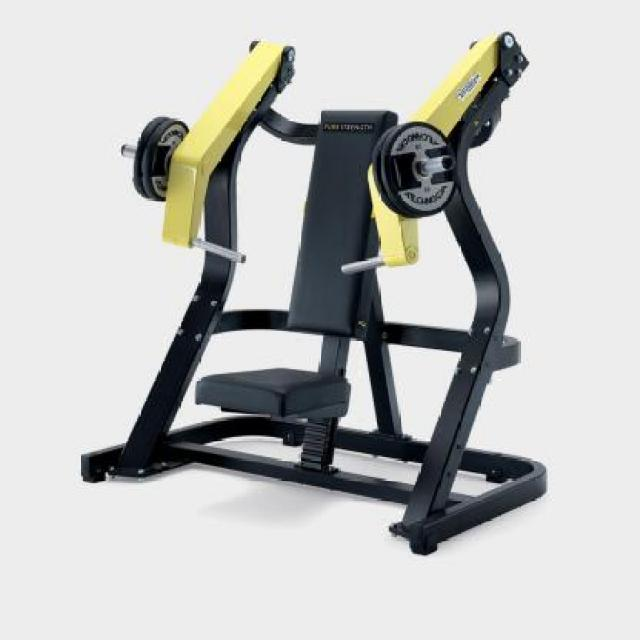Chest Press machine: (77, 28, 568, 566)
